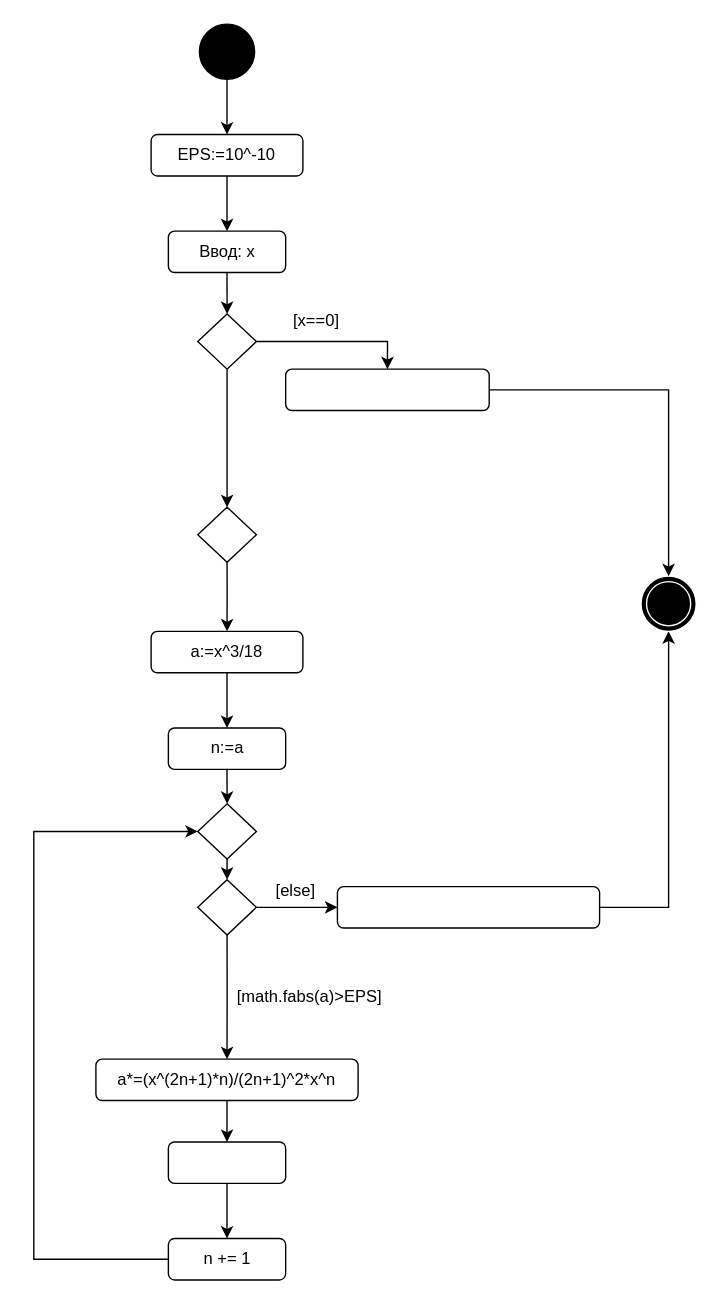
Some shapes in this 720 by 1304 pixel diagram are drawn without their labels. The box of each missing label's shape, as (x1, y1, x2, y2) in pixels:
S +=a: (167, 1141, 286, 1183)
Вывод: "illegal value of x": (284, 368, 489, 411)
Вывод: f"Si({x})={x+S}"): (336, 885, 600, 928)
